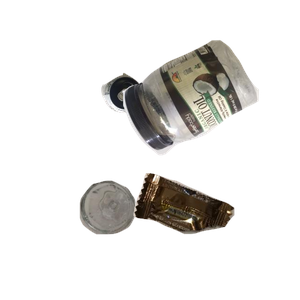glass: (77, 178, 205, 300)
metal: (99, 70, 236, 176)
plastic: (120, 37, 300, 185)
trash: (131, 171, 300, 300)
